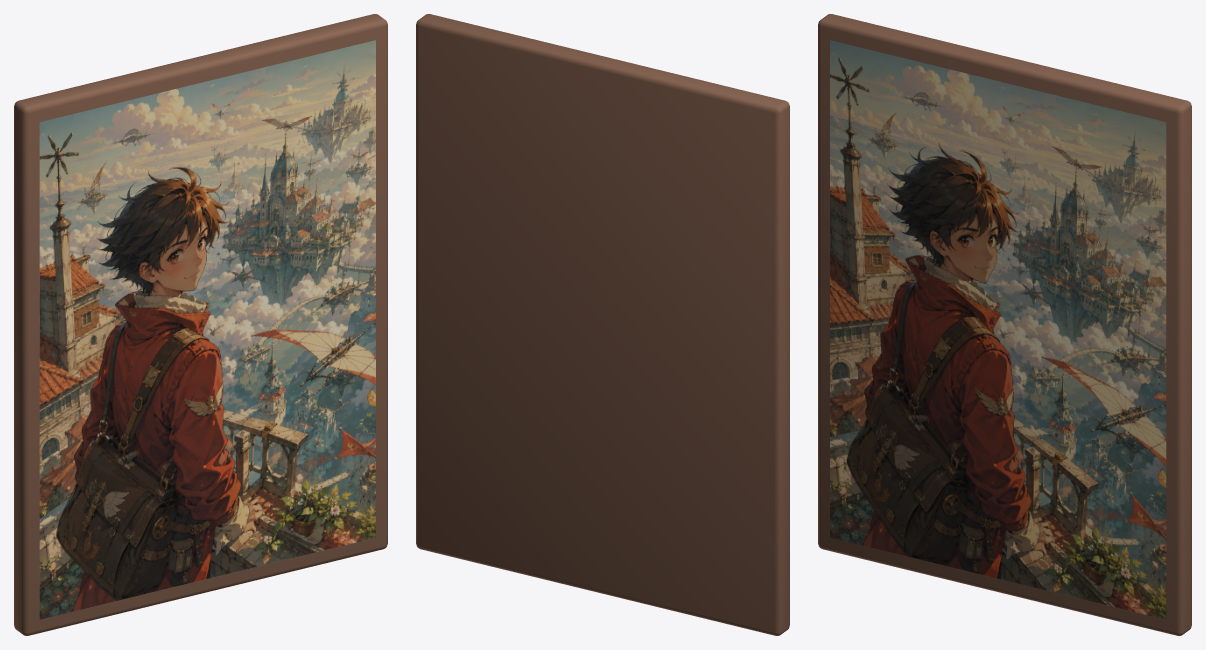
Rendered from anime-sky-postcard.glb.
3 renders of one model, left to right at view 1: azimuth 30°, elevation 25°; view 2: azimuth 150°, elevation 25°; view 3: azimuth 330°, elevation 25°, orthographic.
Visible parts, largest first — view 1: anime-sky-postcard; view 2: anime-sky-postcard; view 3: anime-sky-postcard.
Part boxes in pixels (x1,y1,x2,y2): anime-sky-postcard: (14, 14, 387, 635); anime-sky-postcard: (416, 14, 789, 635); anime-sky-postcard: (818, 14, 1191, 635).
Bounding box in the file's own units: 0.65 × 0.9 × 0.04.
2 materials, 1 textured.
